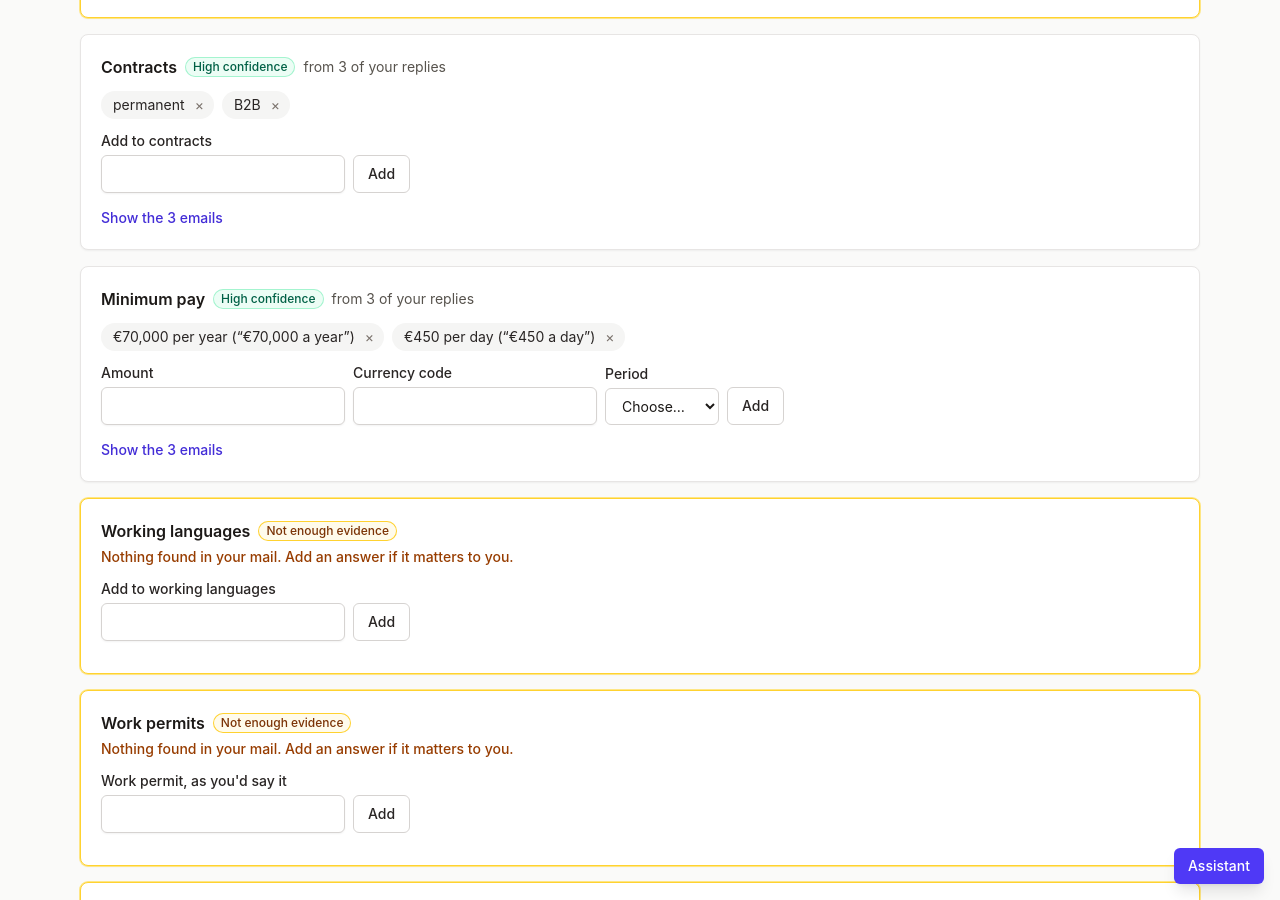
the intake form (F6.1, F6.2) › links to every evidence message, the user's replies included, and opens them in the inbox
(page scrolled)
What coordinates should you click on to do the following:
click the button "Show the 3 emails" below "Amount"
I would click on:
 (162, 450)
Its box is [101,440,223,460].
(page scrolled)
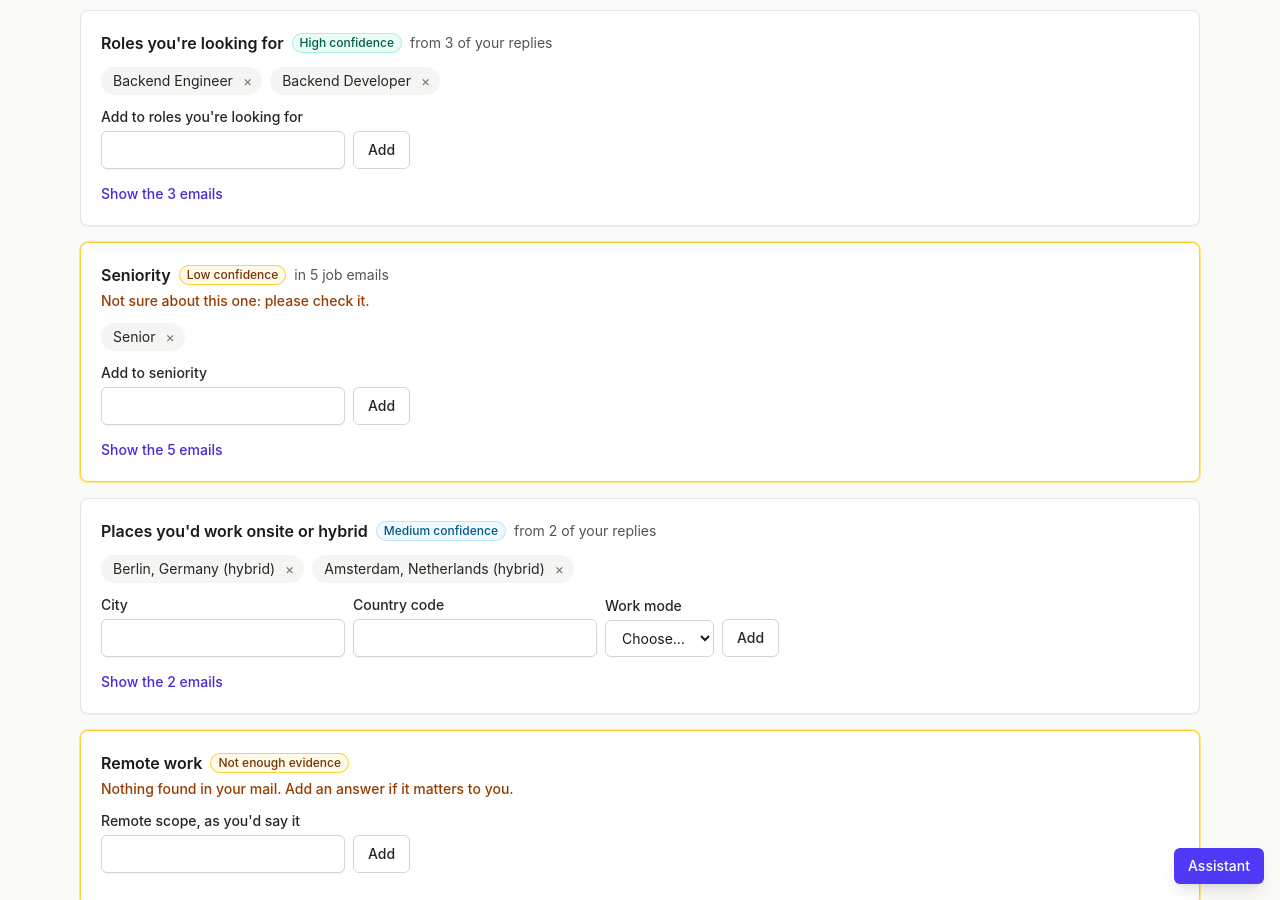
What coordinates should you click on to do the following:
click the button "Show the 5 emails"
I would click on:
 (162, 450)
Its box is [101,440,223,460].
(page scrolled)
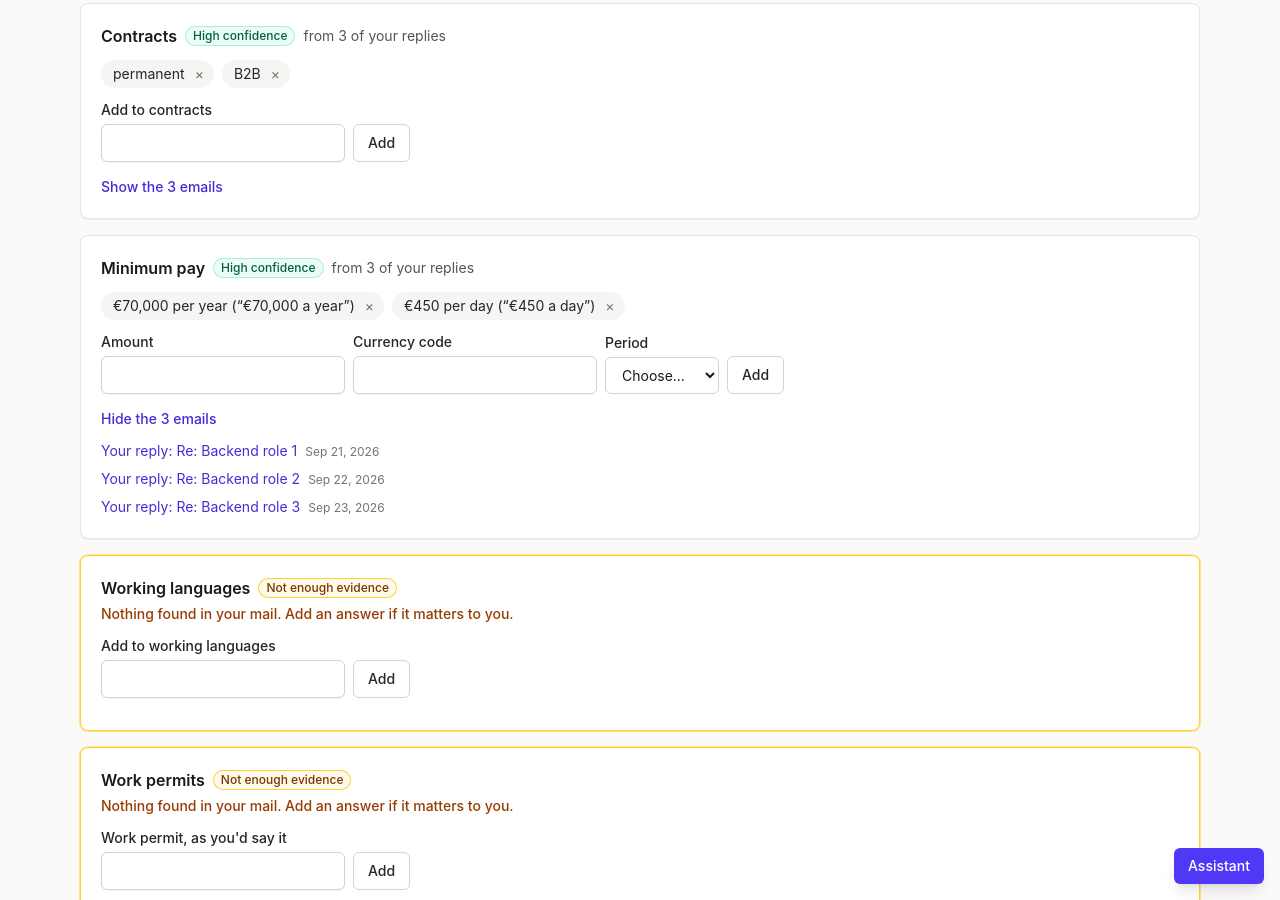
What coordinates should you click on to do the following:
click the link "Your reply: Re: Backend role 1"
I would click on:
 (199, 450)
Its box is [101,442,297,459].
(page scrolled)
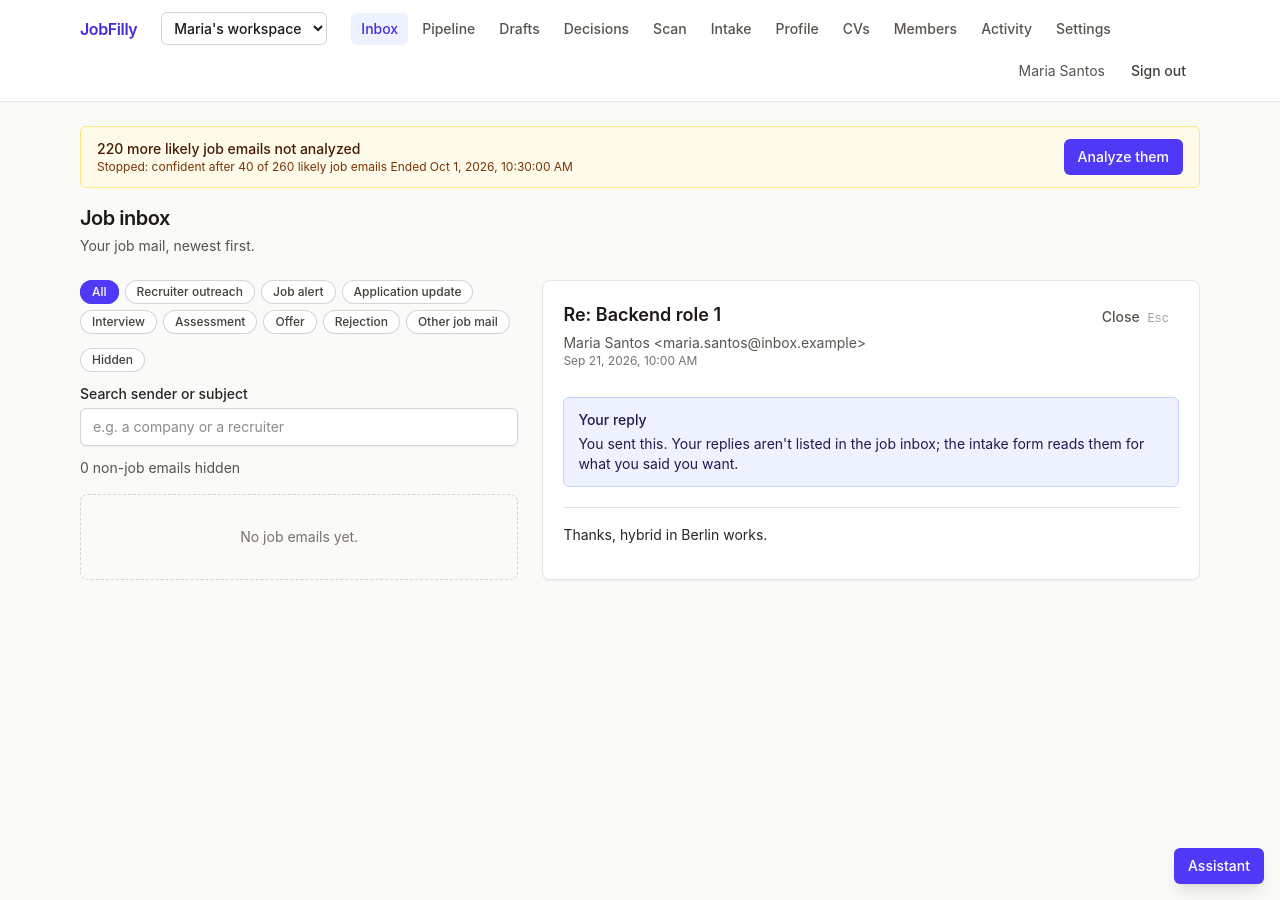
Expected: the text "Your reply" is shown, [578,411,647,428]
Expected: the heading "Re: Backend role 1" is shown, [563,304,721,325]
